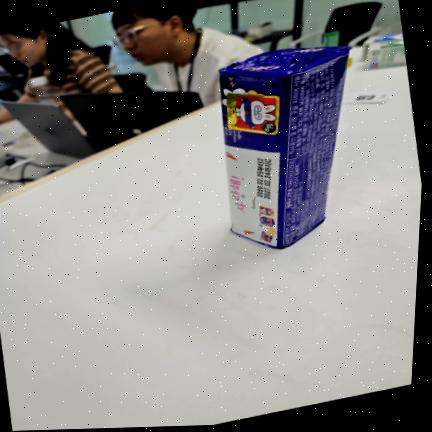cracker_ace: (219, 47, 350, 248)
